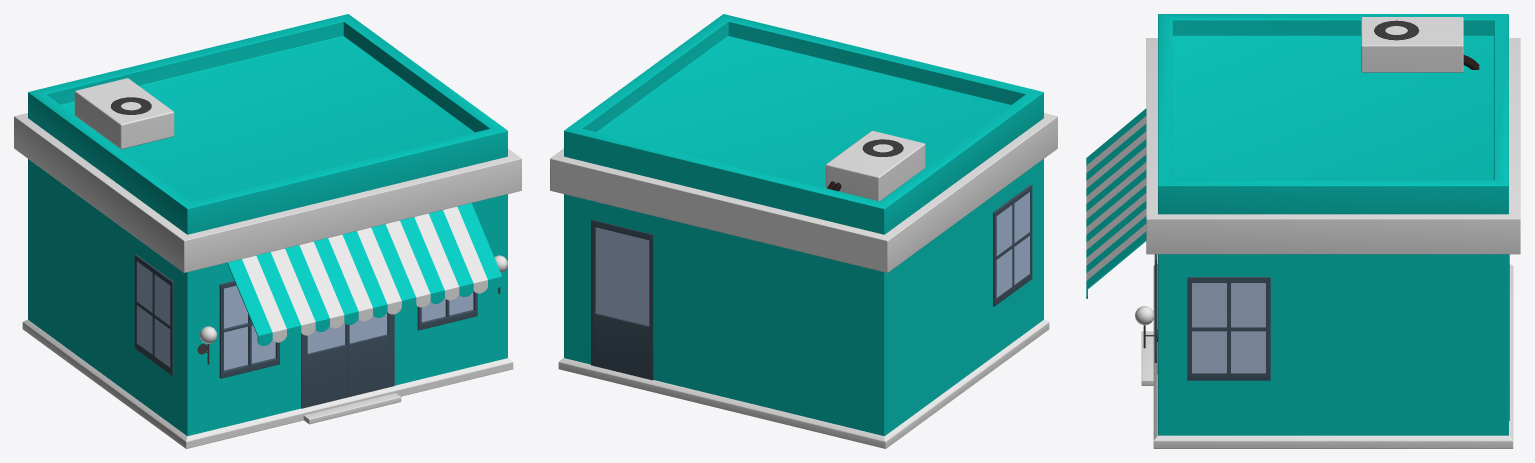
The model's file is Building #13.fbx.
3 renders of one model, left to right at view 1: azimuth 30°, elevation 25°; view 2: azimuth 150°, elevation 25°; view 3: azimuth 270°, elevation 25°, orthographic. The views are drawn at different scales.
Parts seen in each view (by area): view 1: house; view 2: house; view 3: house.
Boxes of the visible parts, x1,y1,x2,y2 form: house: (14,14,521,448); house: (550,14,1057,448); house: (1086,14,1520,448).
Size of the model in its own units: 2096 by 1476 by 2123.
